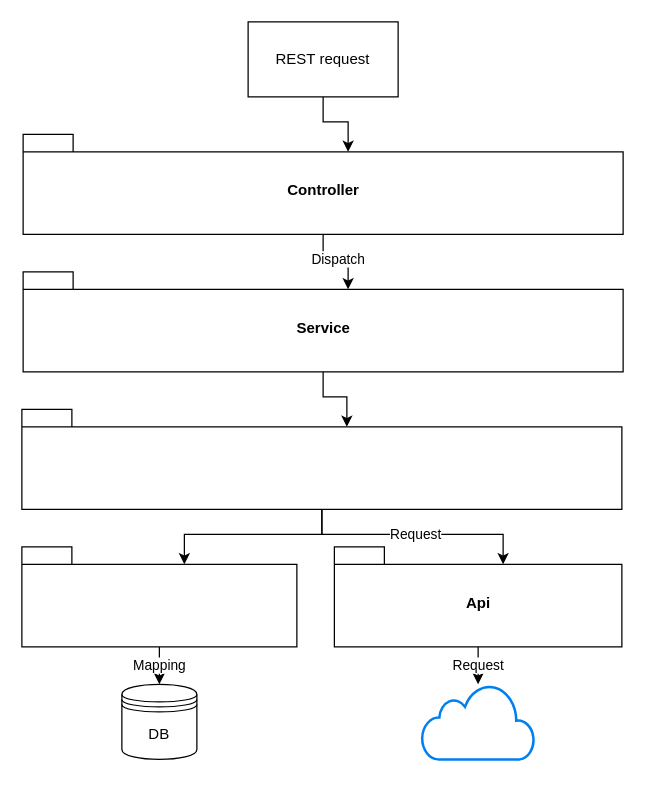
Image size: 645x808. Some labels were removed from this diagram. Here are the shapes that lost their labels. From the top down, the centre of each, then its label:
At (x=321, y=458): "Repository".
At (x=159, y=596): "Domain".
At (x=477, y=721): "Kakao / Tour API".
